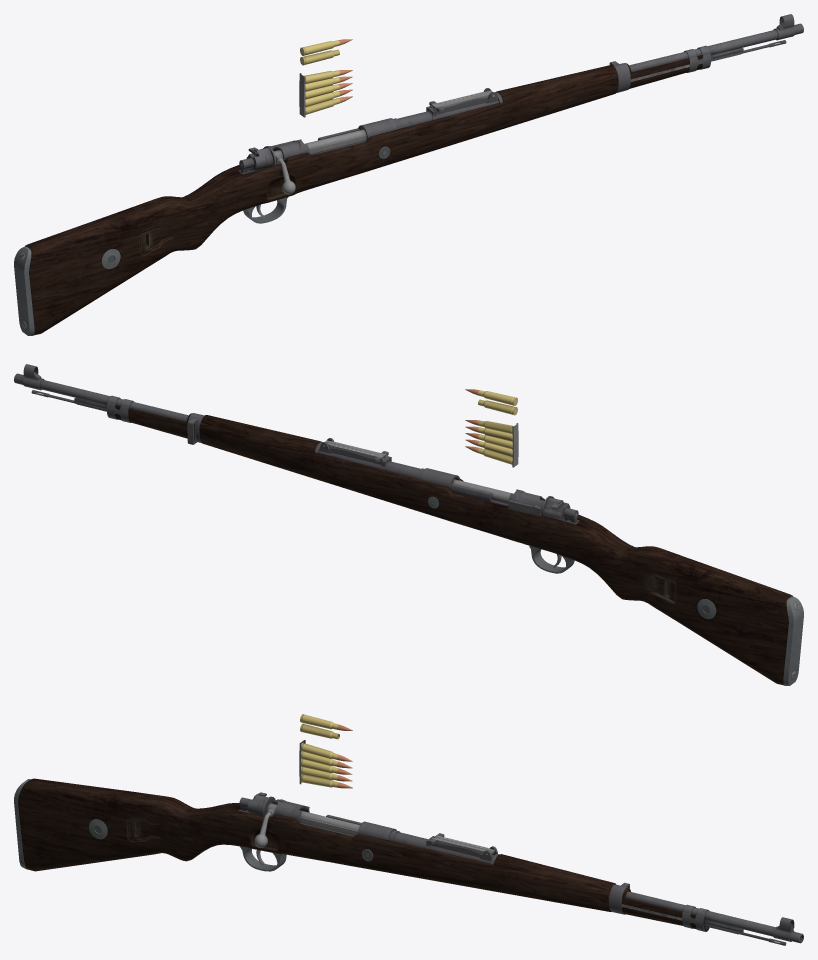
File: kar98k.glb
The picture shows the model from 3 angles, top to bottom: view 1: azimuth 30°, elevation 25°; view 2: azimuth 150°, elevation 25°; view 3: azimuth 330°, elevation 25°; orthographic projection.
Parts seen in each view (by area): view 1: Kar98k, Body, Rifle, Bolt; view 2: Kar98k, Body, Rifle; view 3: Kar98k, Body, Rifle, Bolt.
Boxes of the visible parts, box(x1,y1,x2,y2) form: Kar98k: box(25, 55, 702, 335); Body: box(14, 14, 803, 335); Rifle: box(304, 70, 352, 114); Bolt: box(273, 129, 366, 194); Kar98k: box(115, 405, 792, 685); Body: box(14, 364, 803, 685); Rifle: box(465, 420, 513, 464); Kar98k: box(18, 778, 709, 931); Body: box(14, 779, 803, 945); Rifle: box(301, 743, 352, 788); Bolt: box(254, 803, 359, 847).
Bounding box in the file's own units: 2 × 0.5365 × 0.1156.
Materials: 1 (1 with a texture image).
